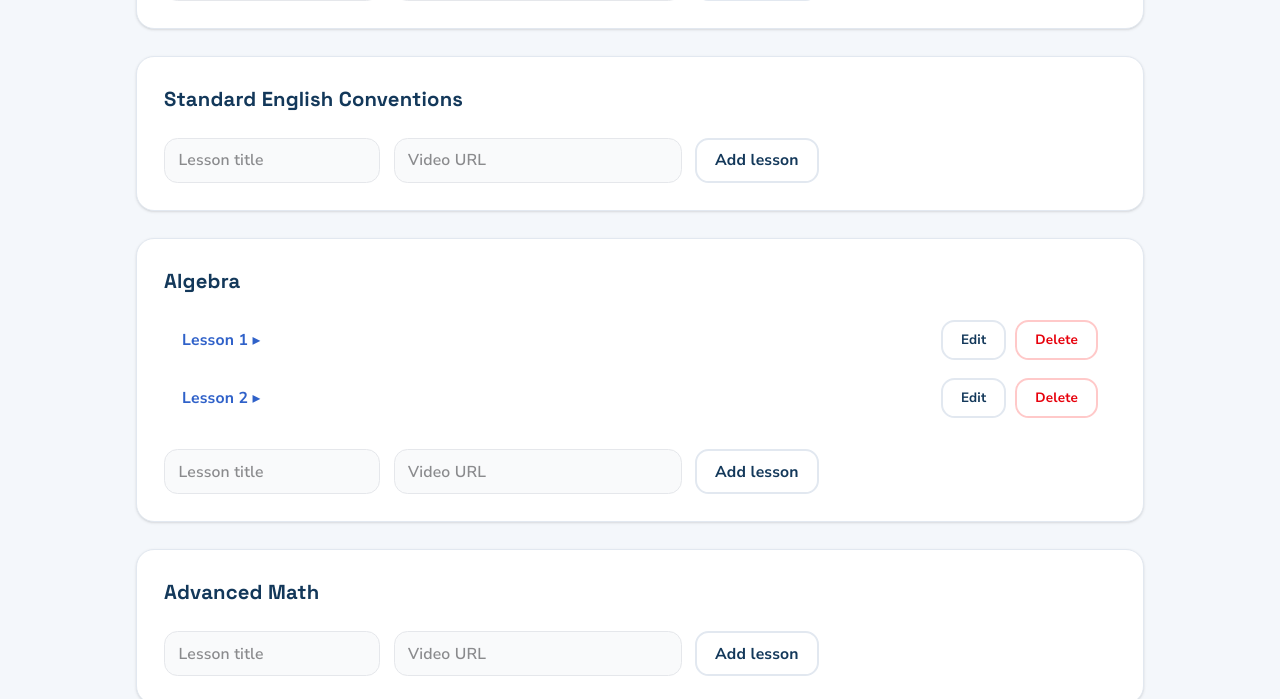
it: TeacherCourseView › asks to confirm before deleting
(page scrolled)
Expected: the text "Lesson 1 ▸" is shown, [182,329,261,351]
Click the 1st button "Delete" at point(1057, 340), box [1015,320,1098,360]
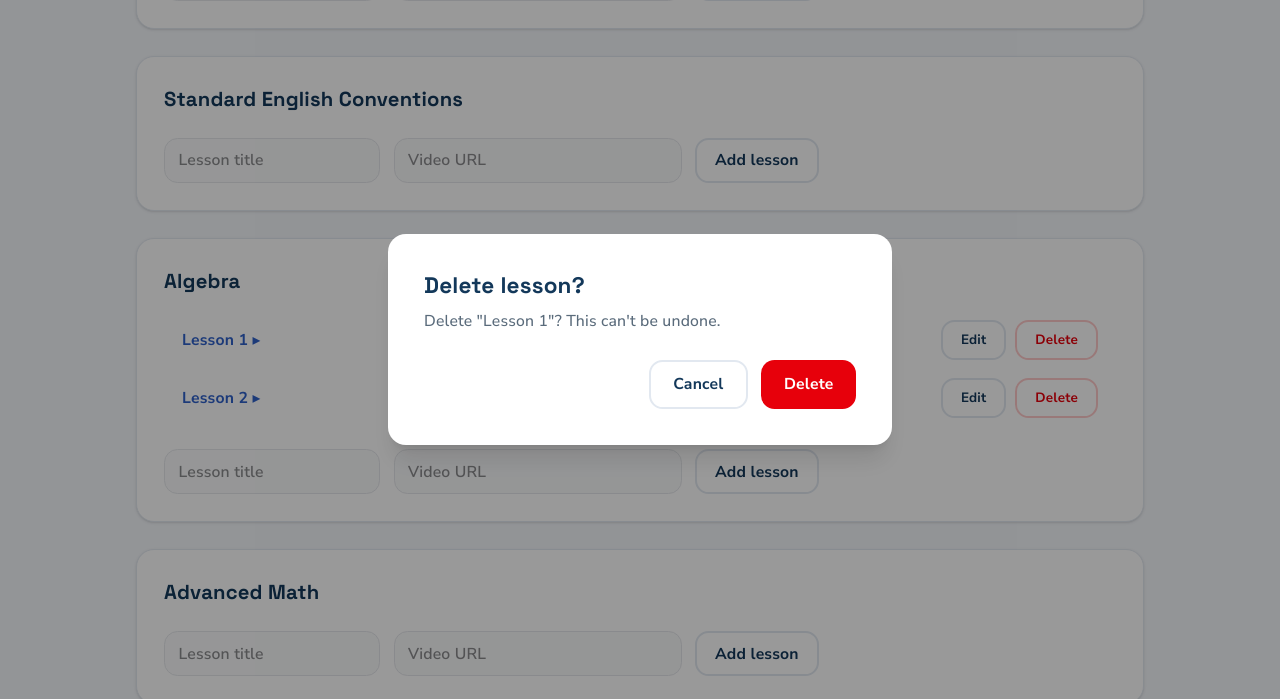
Result: the text "Delete \"Lesson 1\"? This can't be undone." is shown at [424,310,721,332]
